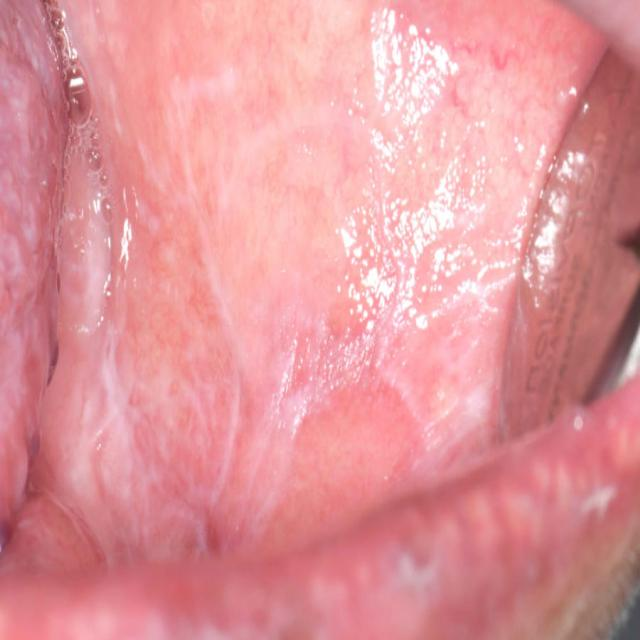leukoplakia-like-detection: (43, 1, 604, 579), (0, 0, 63, 546)
processing_area: (0, 0, 639, 639)
